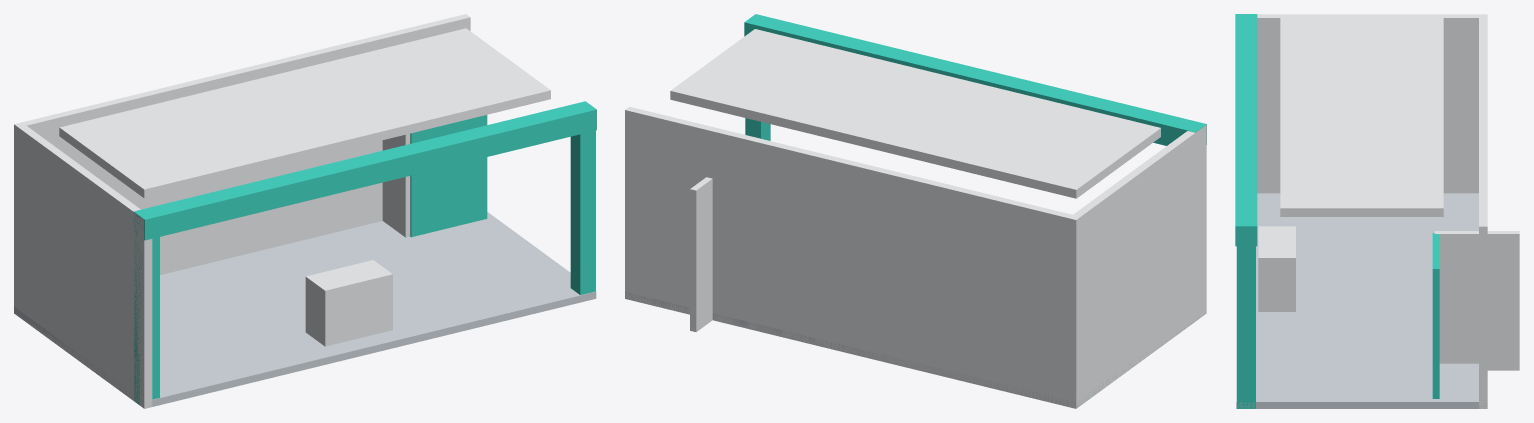
3 renders of one model, left to right at view 1: azimuth 30°, elevation 25°; view 2: azimuth 150°, elevation 25°; view 3: azimuth 270°, elevation 25°, orthographic. The views are drawn at different scales.
Visible parts, largest first — view 1: Exhibition Booth Concept; view 2: Exhibition Booth Concept; view 3: Exhibition Booth Concept.
Part boxes in pixels (left/top/right/bottom): Exhibition Booth Concept: left=14, top=14, right=596, bottom=408; Exhibition Booth Concept: left=625, top=14, right=1206, bottom=408; Exhibition Booth Concept: left=1235, top=14, right=1519, bottom=408.
Size of the model in its own units: 8 by 3.34 by 4.52.
